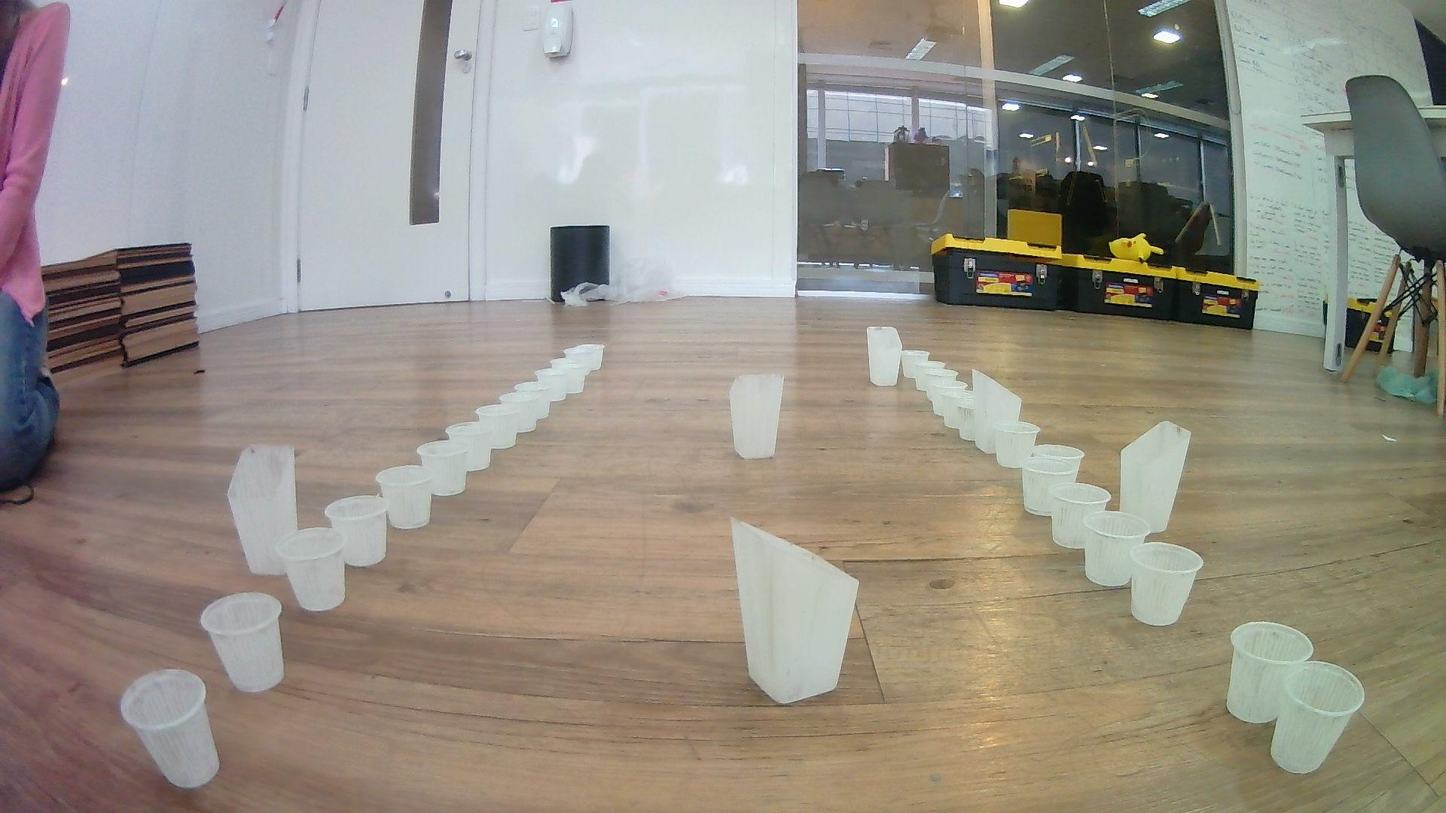erva_daninha: (730, 516, 860, 705), (227, 443, 299, 576), (1118, 419, 1193, 535), (728, 373, 786, 460), (971, 368, 1022, 455), (865, 326, 904, 387)
planta: (118, 668, 221, 789), (1269, 661, 1365, 774), (1225, 621, 1315, 725), (200, 592, 285, 693), (1128, 541, 1204, 626), (275, 527, 349, 612), (1081, 510, 1150, 588), (323, 495, 389, 568), (1048, 482, 1112, 550), (375, 465, 436, 530), (1020, 456, 1078, 516), (416, 440, 468, 497), (444, 420, 493, 471), (993, 420, 1041, 469), (1032, 443, 1085, 483), (475, 403, 519, 449), (499, 391, 538, 434), (941, 388, 978, 430), (514, 381, 551, 420), (928, 380, 968, 416), (917, 369, 958, 403), (548, 361, 587, 394), (563, 343, 606, 371), (908, 361, 946, 391), (535, 368, 568, 402), (562, 353, 599, 381), (954, 403, 979, 441), (901, 350, 931, 379)
